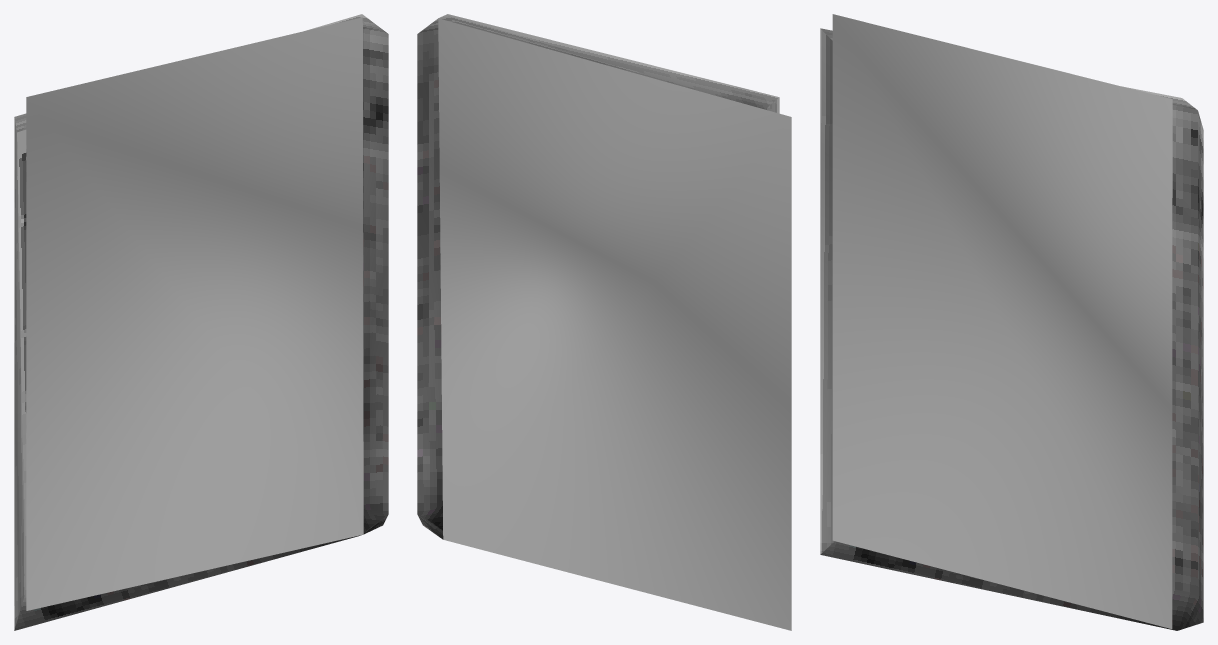
File: ps2_save-icons_kyoufushinbun.glb
The picture shows the model from 3 angles, left to right: view 1: azimuth 30°, elevation 25°; view 2: azimuth 150°, elevation 25°; view 3: azimuth 330°, elevation 25°; orthographic projection. The views are drawn at different scales.
Visible parts, largest first — view 1: static.ico; view 2: static.ico; view 3: static.ico.
Boxes of the visible parts, x1,y1,x2,y2 form: static.ico: [14, 14, 388, 630]; static.ico: [417, 14, 791, 630]; static.ico: [820, 14, 1203, 630].
Bounding box in the file's own units: 2.32 × 3.15 × 0.3999.
1 material, 1 textured.
